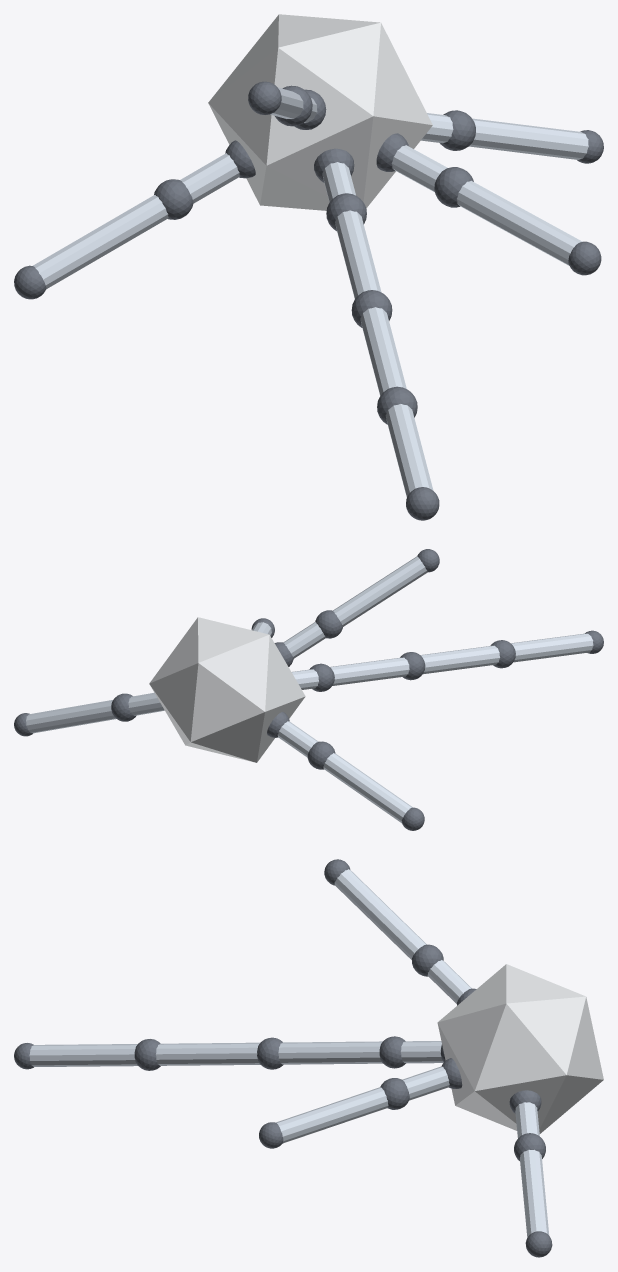
The model's file is g0_42222_0_abs.glb.
3 views of the same model, one above another, from view 1: azimuth 30°, elevation 25°; view 2: azimuth 150°, elevation 25°; view 3: azimuth 270°, elevation 25° (orthographic). The views are drawn at different scales.
Visible parts, largest first — view 1: geom_0, geom_4, geom_23, geom_28, geom_13, geom_9, geom_11, geom_2, geom_21, geom_3, geom_22, geom_27 (+11 smaller); view 2: geom_0, geom_18, geom_4, geom_28, geom_13, geom_9, geom_11, geom_16, geom_2, geom_26, geom_17, geom_3 (+6 smaller); view 3: geom_0, geom_23, geom_18, geom_13, geom_9, geom_11, geom_28, geom_21, geom_16, geom_7, geom_26, geom_22 (+6 smaller).
Part boxes in pixels (x1,y1,x2,y2): geom_0: (208,14,432,210); geom_4: (33,195,168,288); geom_23: (457,180,582,265); geom_28: (469,118,588,159); geom_13: (385,404,433,497); geom_9: (335,210,381,298); geom_11: (360,307,406,395); geom_2: (180,153,239,203); geom_21: (391,145,447,192); geom_3: (154,179,193,219); geom_22: (434,167,473,207); geom_27: (440,110,475,150); geom_0: (149,617,305,762); geom_18: (333,556,427,626); geom_4: (323,753,412,823); geom_28: (26,700,115,733); geom_13: (511,633,593,662); geom_9: (330,657,409,685); geom_11: (420,645,500,674); geom_16: (283,622,325,658); geom_2: (277,721,318,757); geom_26: (128,692,164,715); geom_17: (315,610,342,638); geom_3: (307,741,335,769); geom_0: (437,964,603,1133); geom_23: (276,1087,388,1143); geom_18: (334,869,426,959); geom_13: (29,1044,137,1066); geom_9: (278,1041,382,1064); geom_11: (156,1042,260,1065); geom_28: (520,1149,549,1237); geom_21: (402,1066,449,1100); geom_16: (427,960,471,1003); geom_7: (400,1041,443,1063); geom_26: (515,1102,539,1137); geom_22: (380,1078,409,1109).
Size of the model in its own units: 0.479 by 0.2208 by 0.5304.
